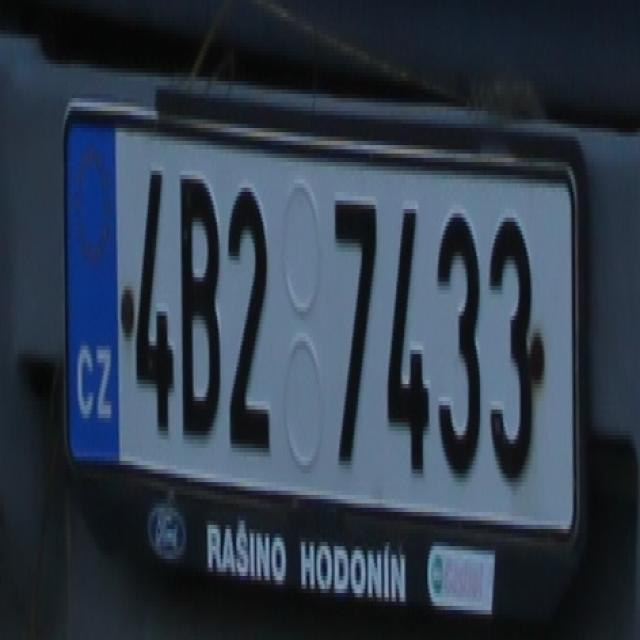2: (226, 175, 272, 448)
3: (486, 205, 532, 482), (437, 209, 480, 478)
4: (383, 196, 432, 478), (128, 162, 178, 435)
7: (330, 184, 376, 452)
B: (180, 166, 220, 431)
